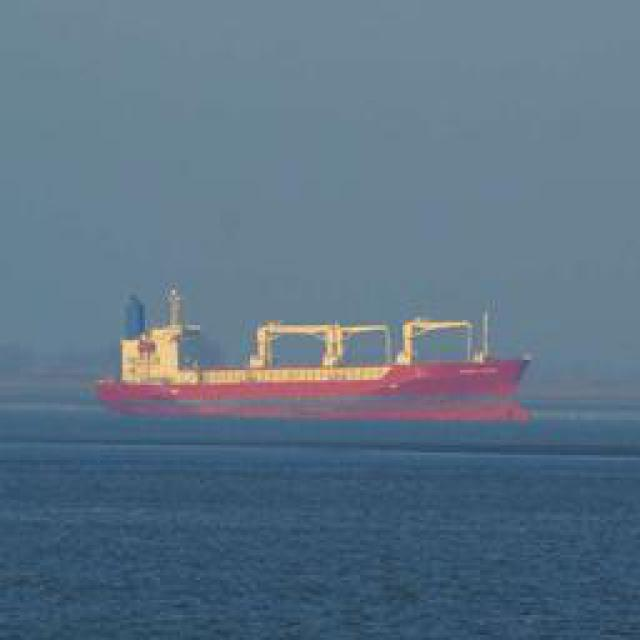Ship: (97, 299, 535, 429)
